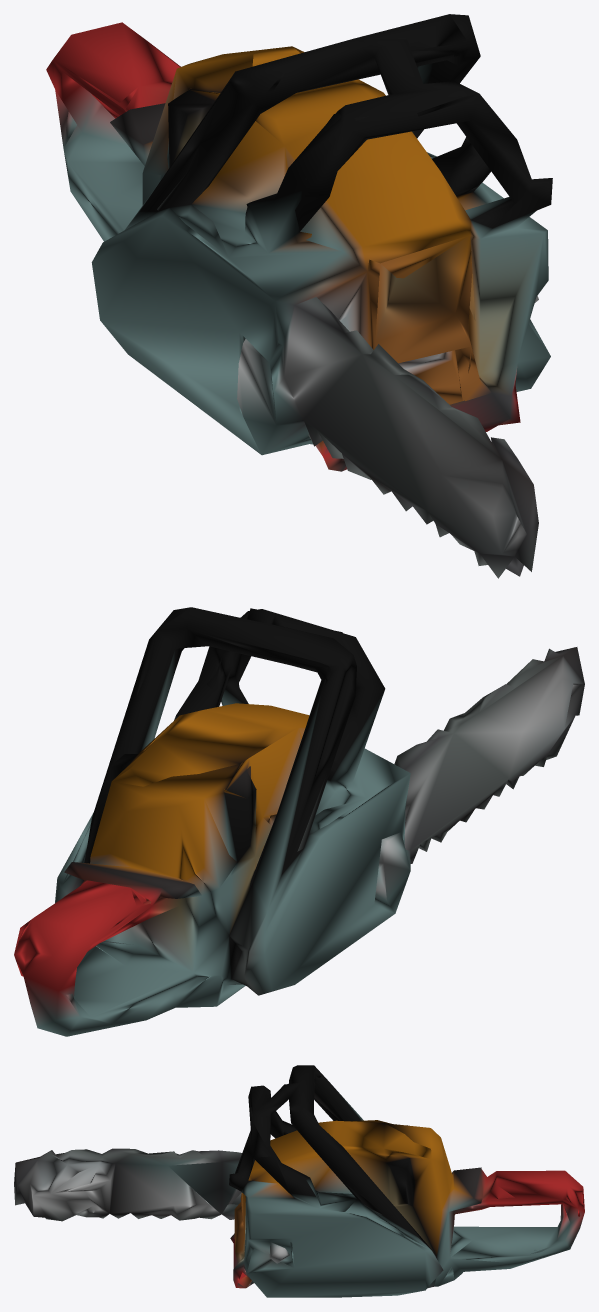
The model's file is gen3d-chainsaw-lod1.glb.
3 views of the same model, one above another, from view 1: azimuth 30°, elevation 25°; view 2: azimuth 150°, elevation 25°; view 3: azimuth 270°, elevation 25° (orthographic). The views are drawn at different scales.
Visible parts, largest first — view 1: part_0; view 2: part_0; view 3: part_0.
Boxes of the visible parts, <box> form: part_0: <box>46,14,552,578</box>; part_0: <box>14,607,584,1036</box>; part_0: <box>14,1065,584,1297</box>.
Size of the model in its own units: 0.7792 by 0.9924 by 2.68.
